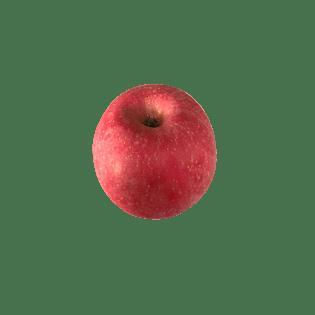apple: (93, 84, 219, 221)
